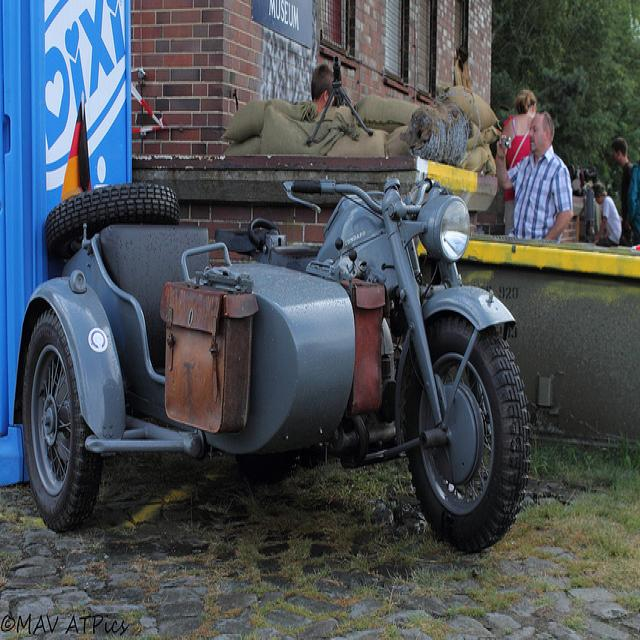motor: (14, 182, 526, 556)
